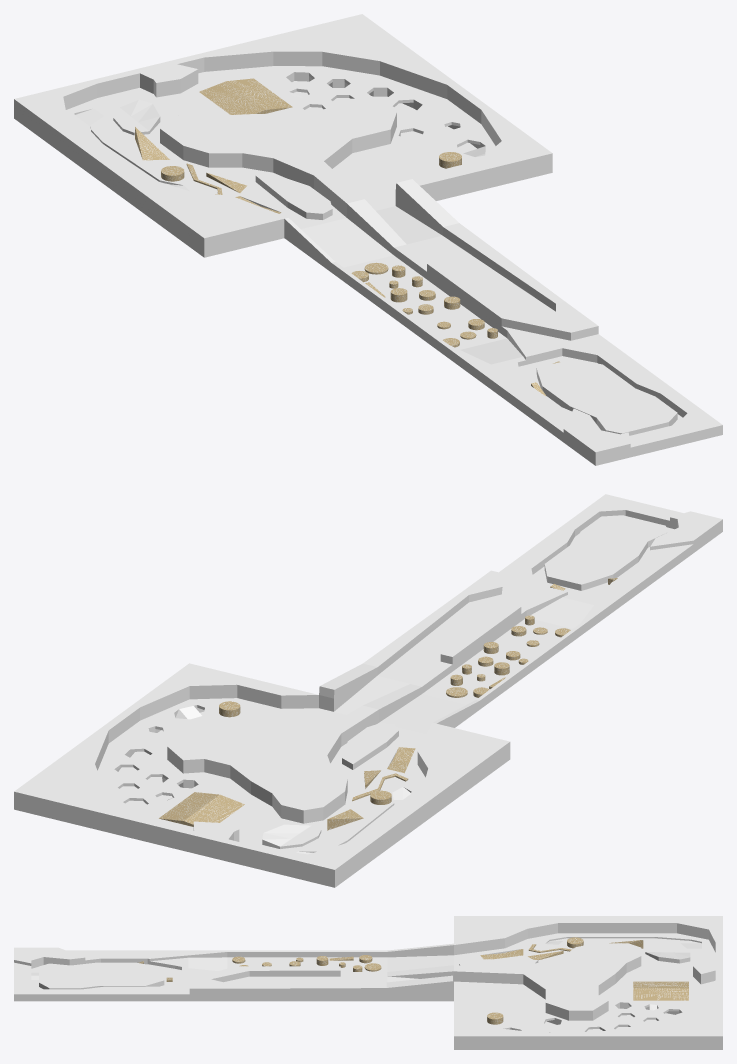
The model's file is racetrack7.dae.
The picture shows the model from 3 angles, top to bottom: view 1: azimuth 30°, elevation 25°; view 2: azimuth 150°, elevation 25°; view 3: azimuth 270°, elevation 25°; orthographic projection. The views are drawn at different scales.
Parts seen in each view (by area): view 1: SketchUp (×6); view 2: SketchUp (×5); view 3: SketchUp (×7).
Boxes of the visible parts, box(x1,y1,x2,y2) form: SketchUp (×6): box(14, 14, 722, 465); SketchUp (×5): box(14, 494, 722, 887); SketchUp (×7): box(14, 916, 722, 1049).
Size of the model in its own units: 405720 by 1011372 by 36731.
